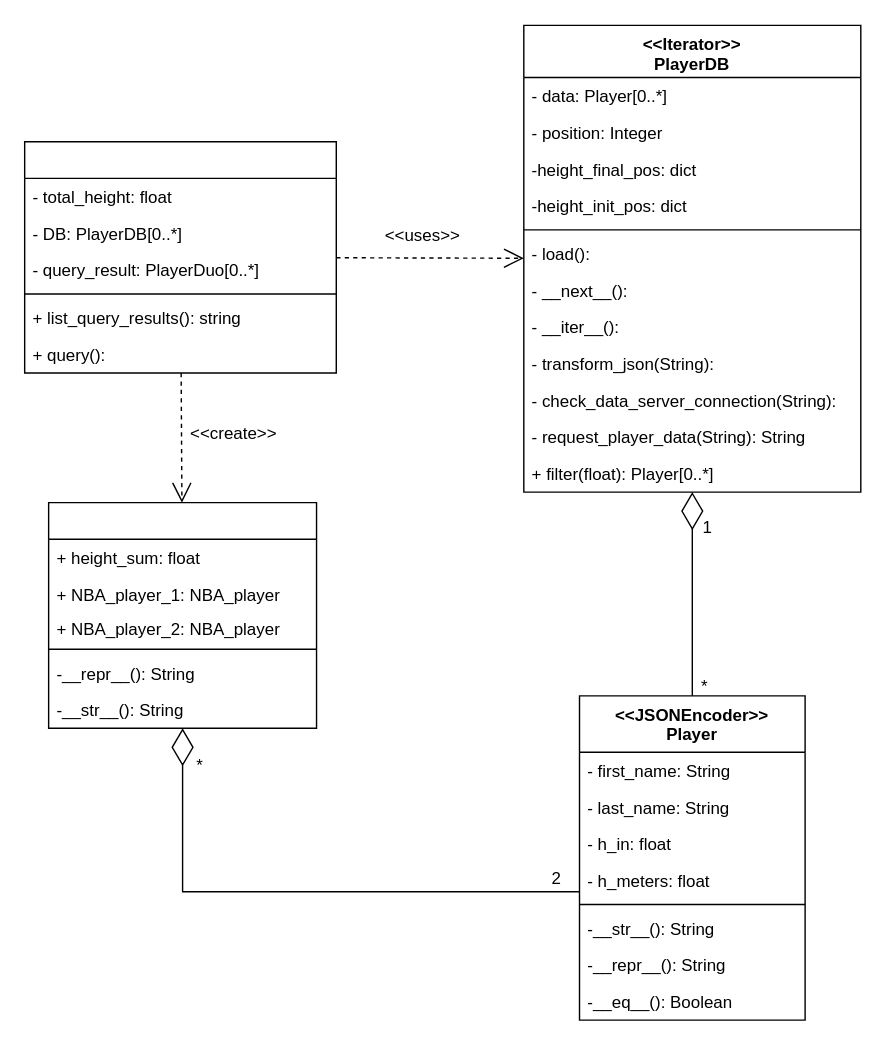
Some shapes in this 885 by 1048 pixel diagram are drawn without their labels. Each missing label, with the box of its shape:
NBA_player_duo: (47, 501, 317, 728)
User: (23, 140, 336, 373)
